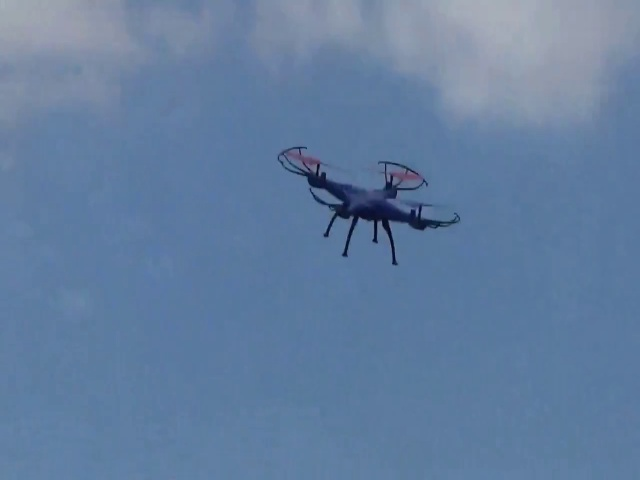drone: (274, 144, 461, 268)
